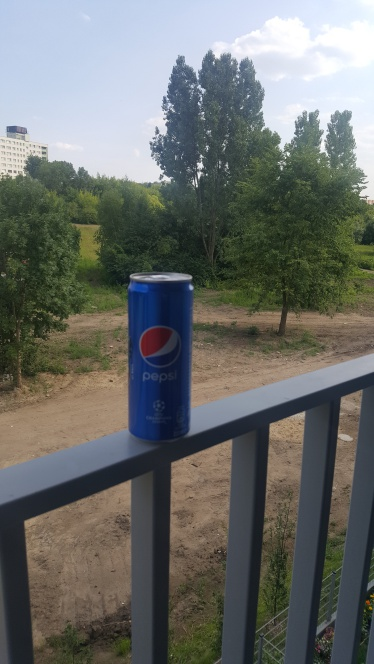pepsi: (117, 266, 205, 444)
